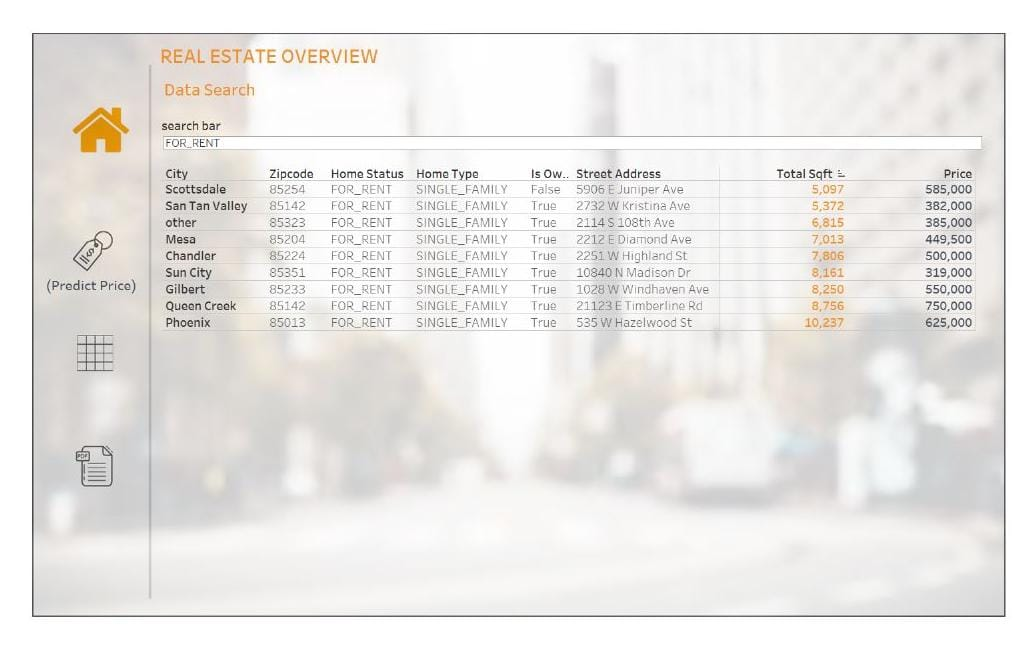

The page's visual inventory and layout, read from the dashboard file:
{"tool":"tableau","page":{"name":"Data search dashboard","canvas":[1500,900],"ordinal":0},"visuals":[{"type":"blank","box":[0,0,32,900]},{"type":"image","param":"C:/Users/USER/Documents/ZHP/zhp dashboard images/final/3.png","box":[32,0,1468,900]},{"type":"text","box":[224,19,701,53]},{"type":"text","box":[226,58,1242,76]},{"type":"parameter","param":"[Parameters].[Parameter 6]","box":[226,134,1242,75]},{"type":"worksheet","title":"Data Search ","mark":"Automatic","rows":["city","zipcode","homeStatus","homeType","isOwnerOccupied","streetAddress"],"box":[226,209,1242,254]},{"type":"text","box":[187,346,490,33]},{"type":"text","box":[53,375,144,30]},{"type":"parameter","param":"[Parameters].[Parameter 1]","box":[187,379,490,60]},{"type":"parameter","param":"[Parameters].[Parameter 3]","box":[187,439,490,60]},{"type":"dashboard-object","box":[65,455,139,84]},{"type":"parameter","param":"[Parameters].[Test Bathrooms (copy)_3160682558038994951]","box":[187,499,490,83]},{"type":"parameter","param":"[Parameters].[Parameter 4]","box":[187,582,490,83]},{"type":"dashboard-object","box":[45,613,91,92]}]}

Visuals, with their boxes on the page's 1500x900 design canvas (x1, y1, x2, y2). These are canvas units, not pixel positions in the 1034x647 screenshot, which may show the page scaled, cropped or inside an application window:
blank: bbox(0, 0, 32, 900)
image: bbox(32, 0, 1500, 900)
text: bbox(224, 19, 925, 72)
text: bbox(226, 58, 1468, 134)
parameter: bbox(226, 134, 1468, 209)
"Data Search " worksheet: bbox(226, 209, 1468, 463)
text: bbox(187, 346, 677, 379)
text: bbox(53, 375, 197, 405)
parameter: bbox(187, 379, 677, 439)
parameter: bbox(187, 439, 677, 499)
dashboard-object: bbox(65, 455, 204, 539)
parameter: bbox(187, 499, 677, 582)
parameter: bbox(187, 582, 677, 665)
dashboard-object: bbox(45, 613, 136, 705)
